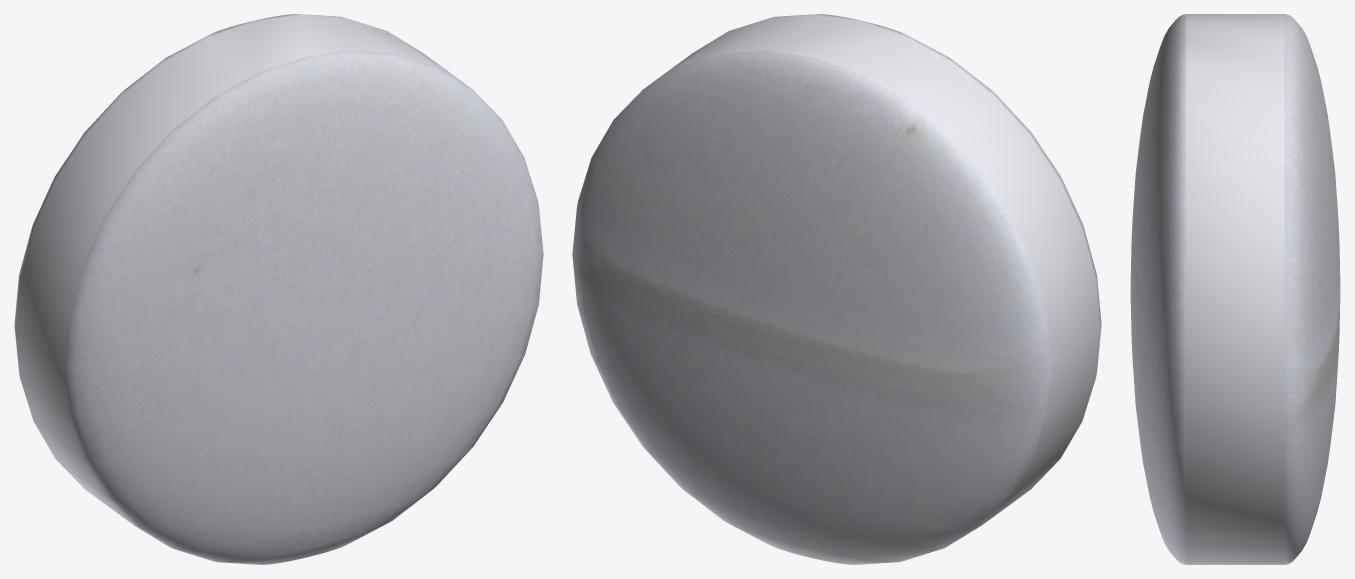
File: 20180202GOPHDRGPT23746.fbx
3 views of the same model, side by side, from view 1: azimuth 30°, elevation 25°; view 2: azimuth 150°, elevation 25°; view 3: azimuth 270°, elevation 25° (orthographic).
Visible parts, largest first — view 1: 球體.008; view 2: 球體.008; view 3: 球體.008.
Boxes of the visible parts, x1,y1,x2,y2 form: 球體.008: [14, 14, 543, 564]; 球體.008: [572, 14, 1101, 564]; 球體.008: [1130, 14, 1340, 564].
Bounding box in the file's own units: 0.7472 × 0.7472 × 0.2845.
Materials: 1 (1 with a texture image).
